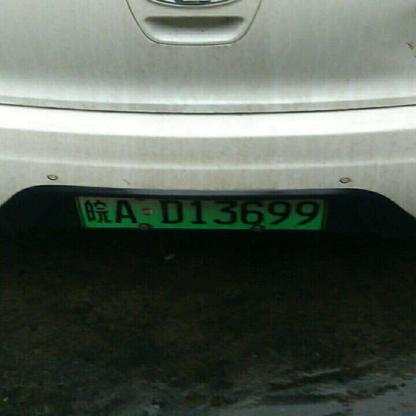lp: (76, 194, 327, 229)
